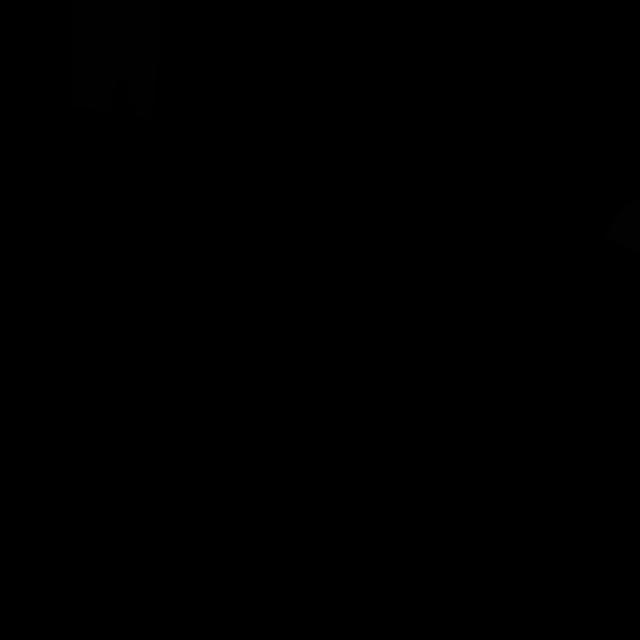cardboard: (604, 198, 640, 256)
rigid_plastic: (71, 0, 163, 120)
